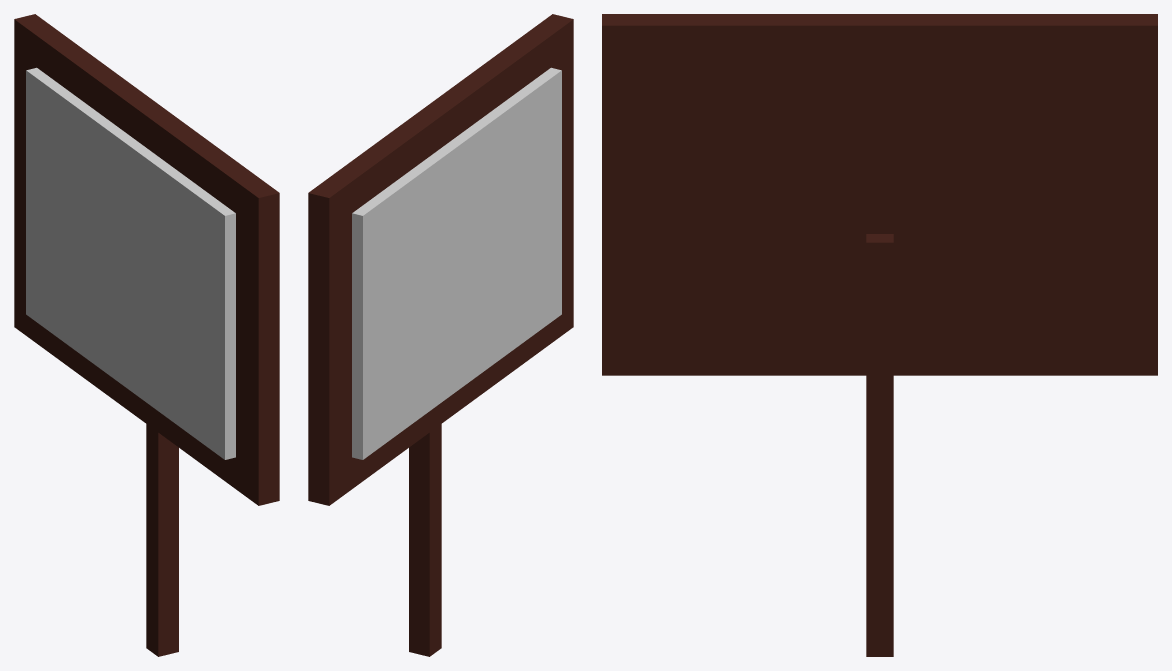
Rendered from md_signboard.fbx.
3 views of the same model, side by side, from view 1: azimuth 30°, elevation 25°; view 2: azimuth 150°, elevation 25°; view 3: azimuth 270°, elevation 25° (orthographic). The views are drawn at different scales.
Visible parts, largest first — view 1: pCube3; view 2: pCube3; view 3: pCube3.
Part boxes in pixels (box(x1,y1,x2,y2)): pCube3: box(14, 14, 279, 656); pCube3: box(308, 14, 573, 656); pCube3: box(602, 14, 1157, 656).
Size of the model in its own units: 0.4139 by 4.55 by 3.68.
